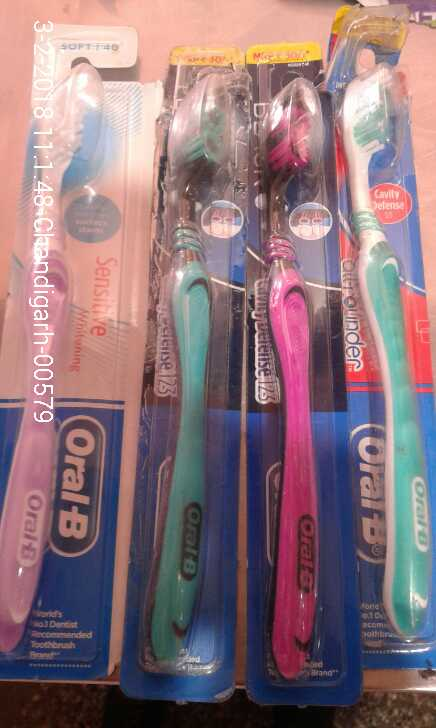oralb: (3, 80, 116, 672), (334, 38, 431, 664), (126, 78, 226, 682), (254, 65, 332, 689)
